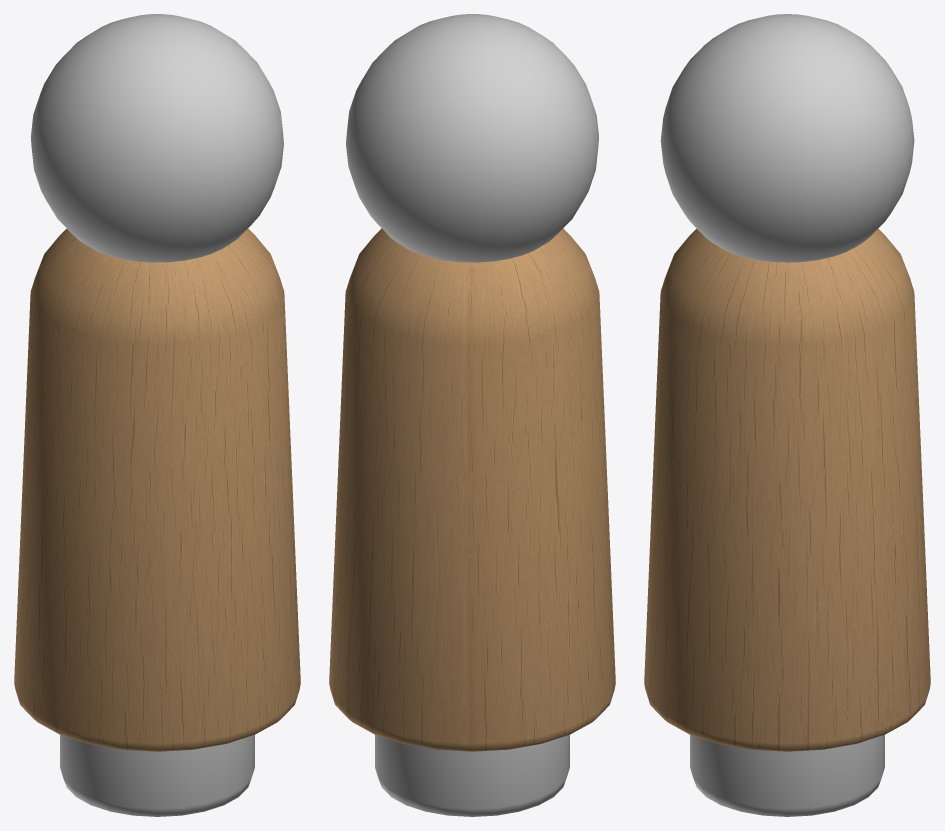
The model's file is Body.FBX.
3 renders of one model, left to right at view 1: azimuth 30°, elevation 25°; view 2: azimuth 150°, elevation 25°; view 3: azimuth 270°, elevation 25°, orthographic.
Visible parts, largest first — view 1: AdultBody, AdultHead, Feet; view 2: AdultBody, AdultHead, Feet; view 3: AdultBody, AdultHead, Feet.
Part boxes in pixels (<box>): AdultBody: <box>14,228,300,751</box>; AdultHead: <box>30,14,283,262</box>; Feet: <box>60,735,254,816</box>; AdultBody: <box>329,228,615,751</box>; AdultHead: <box>346,14,598,262</box>; Feet: <box>375,734,569,816</box>; AdultBody: <box>644,228,930,751</box>; AdultHead: <box>660,14,914,262</box>; Feet: <box>690,735,884,816</box>.
Size of the model in its own units: 22.59 by 65.63 by 22.59.
